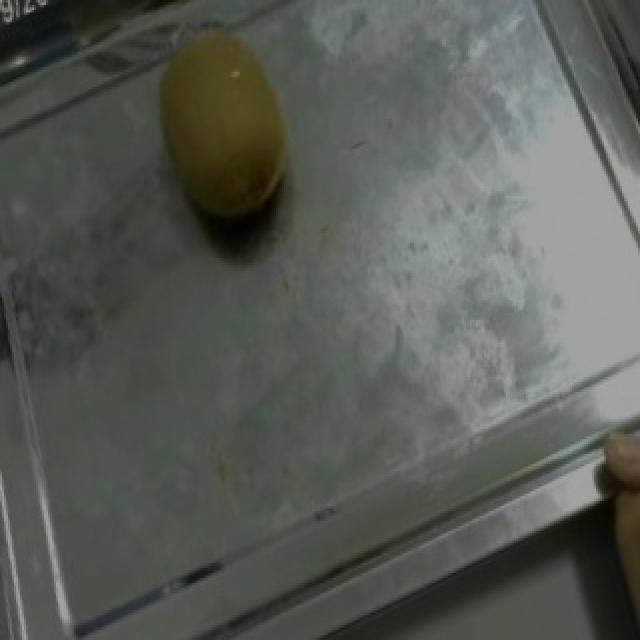Fruit: (122, 5, 326, 260)
